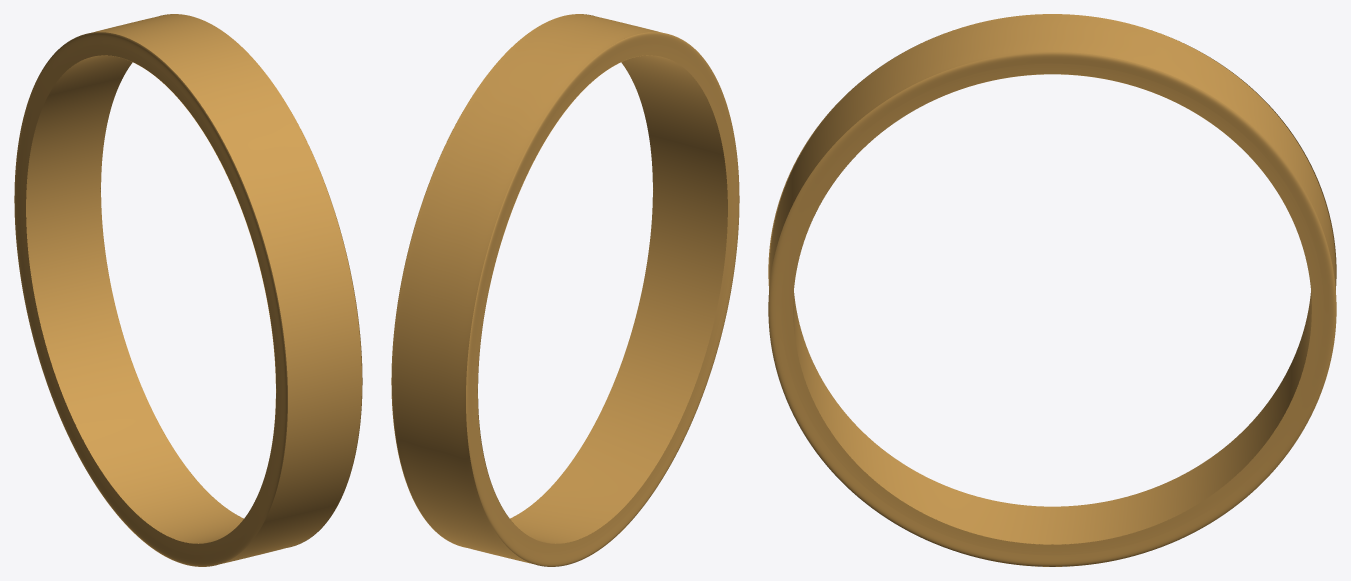
3 views of the same model, side by side, from view 1: azimuth 30°, elevation 25°; view 2: azimuth 150°, elevation 25°; view 3: azimuth 270°, elevation 25° (orthographic). The views are drawn at different scales.
Visible parts, largest first — view 1: P9-Outer, P9-Inner, P9-Sides; view 2: P9-Outer, P9-Inner, P9-Sides; view 3: P9-Sides, P9-Outer, P9-Inner.
Boxes of the visible parts, x1,y1,x2,y2 form: P9-Outer: (92,14,361,563); P9-Inner: (26,55,276,543); P9-Sides: (14,14,362,566); P9-Outer: (392,14,661,563); P9-Inner: (477,55,727,543); P9-Sides: (391,14,739,566); P9-Sides: (768,41,1336,566); P9-Outer: (769,14,1335,566); P9-Inner: (793,51,1311,544).
Bounding box in the file's own units: 0.00368 × 0.023 × 0.0229.
